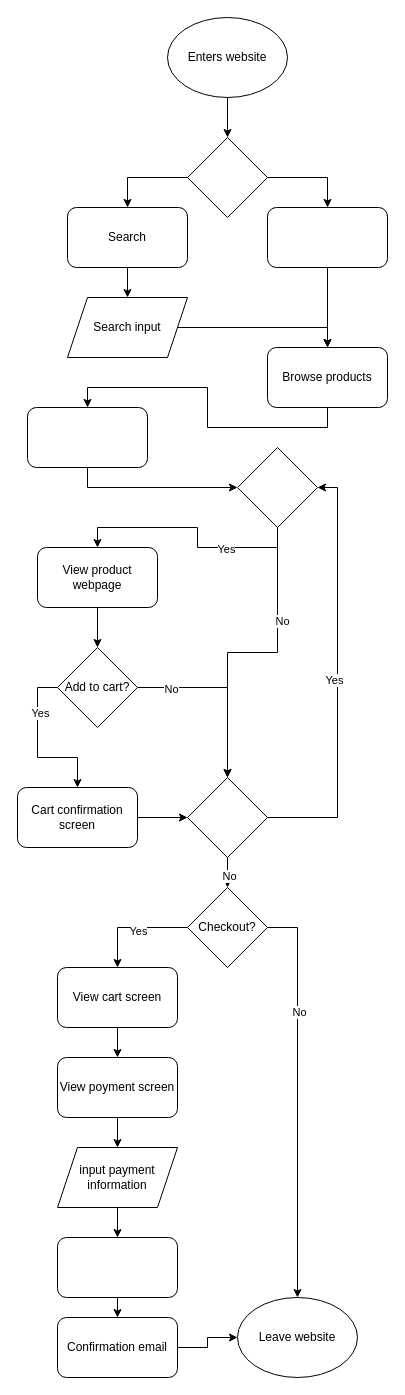
The diagram is 405 pixels wide and 1395 high, and some of its shapes have lost their labels. Each missing label, with the centre of its shape:
Continue shopping?: point 227,817
Explore: point 327,237
Look at specific product?: point 277,487
Order confirmation screen: point 117,1267
Search or explore?: point 227,177
View product options: point 87,437
